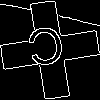C: (25, 25, 68, 76)
